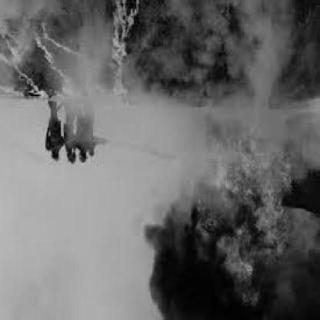Smoke: (152, 229, 226, 320), (254, 264, 316, 320)
